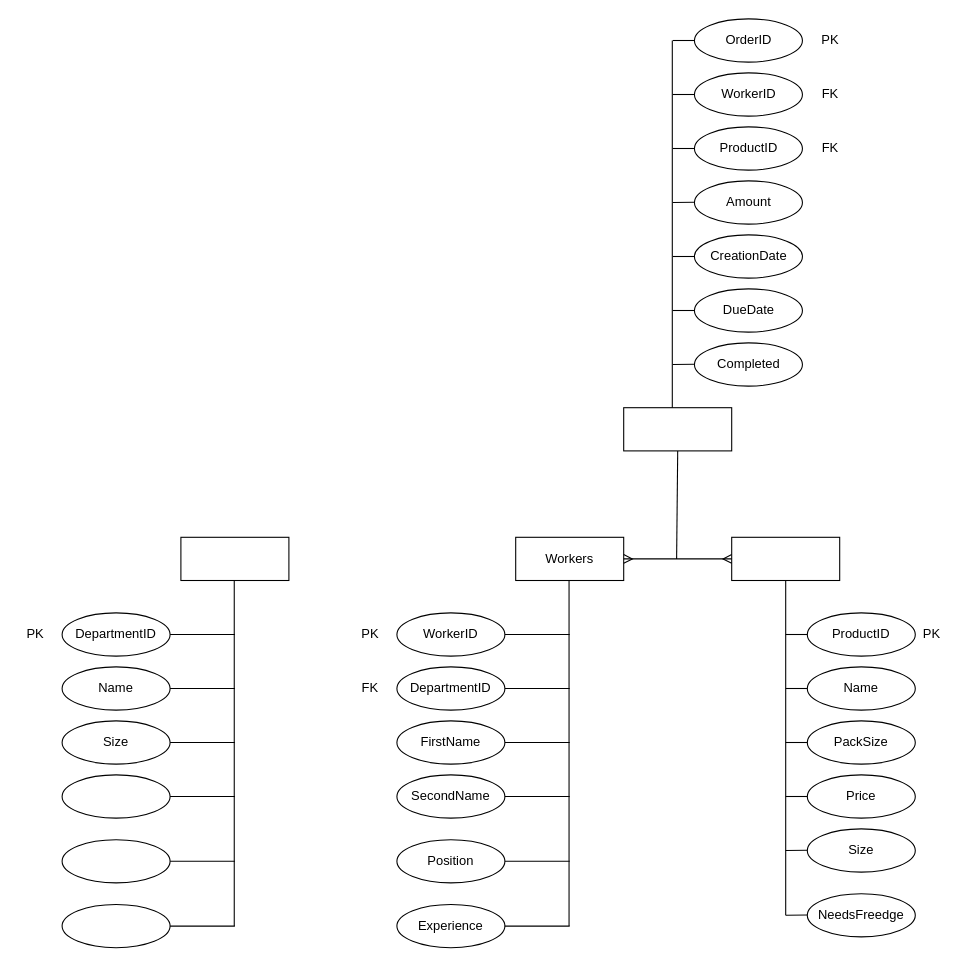
Some shapes in this 966 by 967 pixel diagram are drawn without their labels. Each missing label, with the centre of its shape:
Departments: pixel 234 558
Orders: pixel 677 429
Products: pixel 785 558
